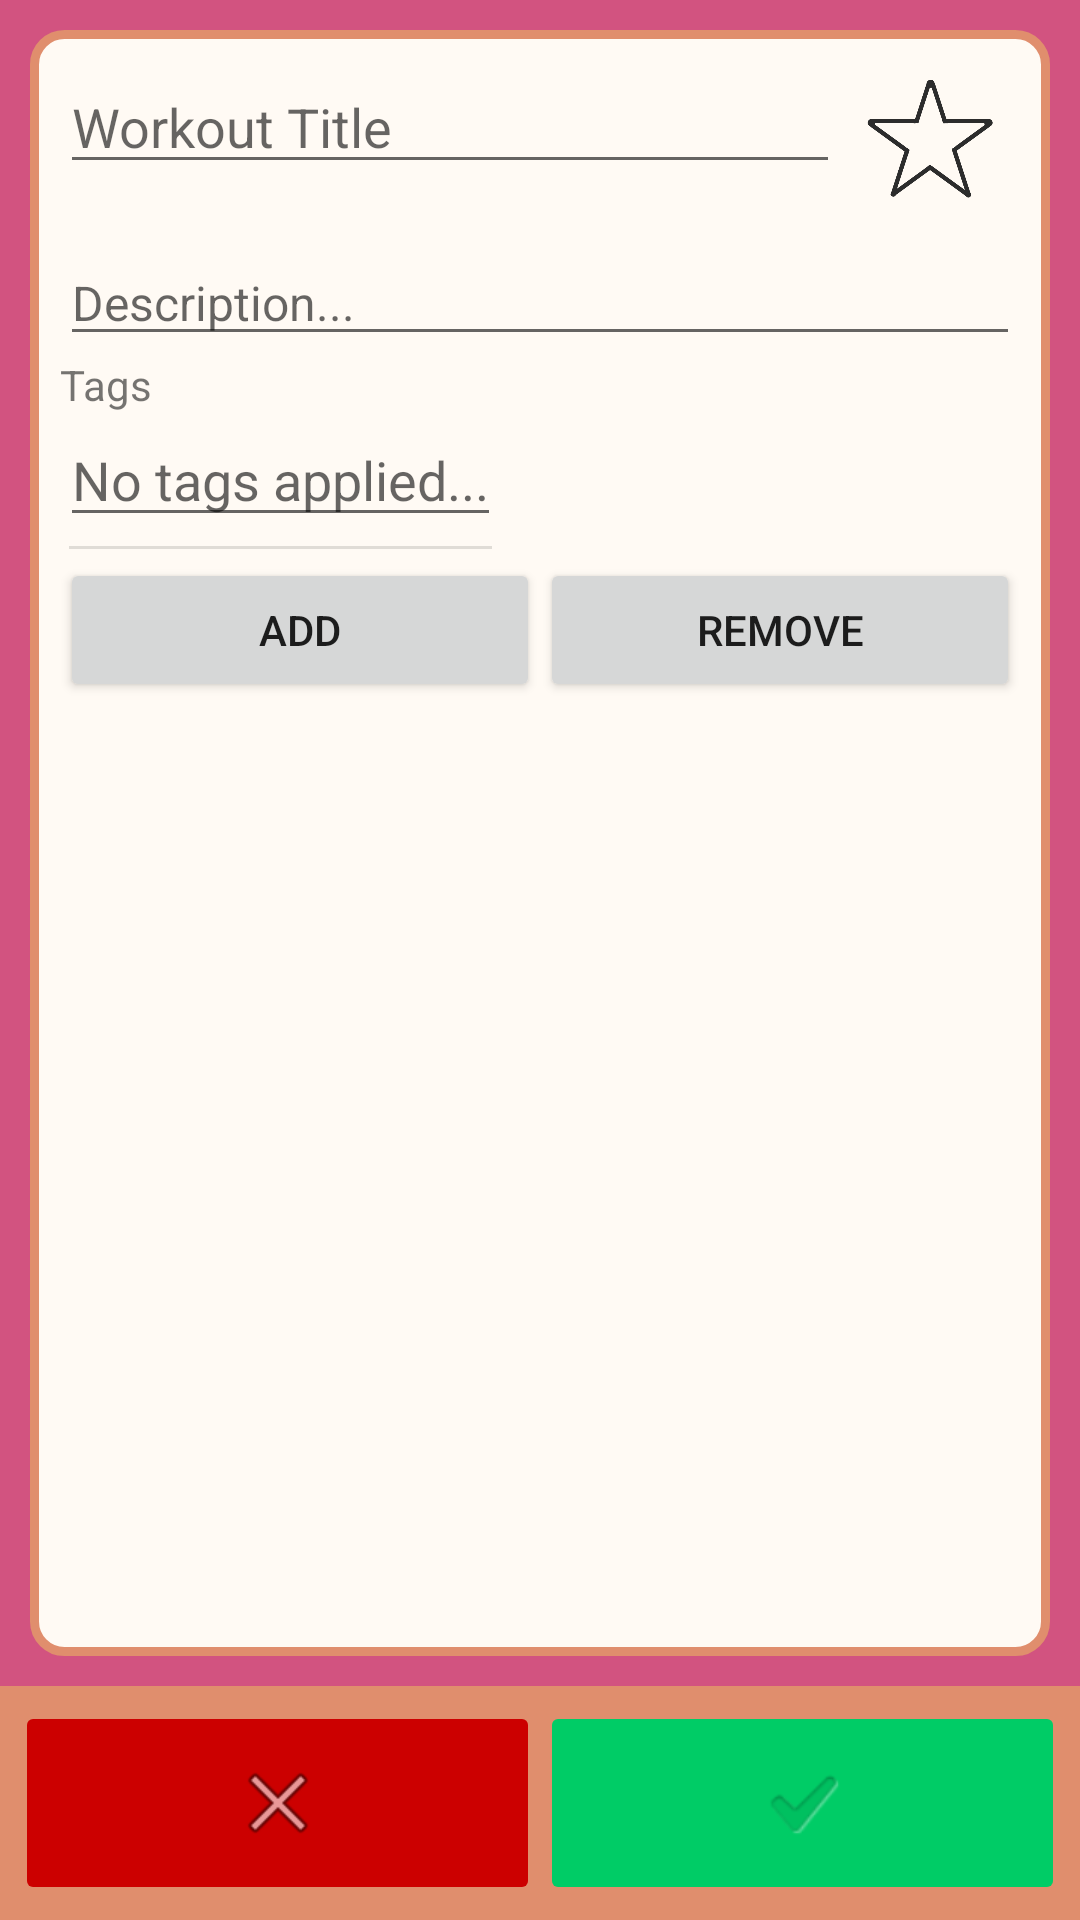

Named icons in this screenshot (1080w x 1920h) and their bounding boxes, [x1,y1,x2,y2]:
star: [868,80,993,198]
